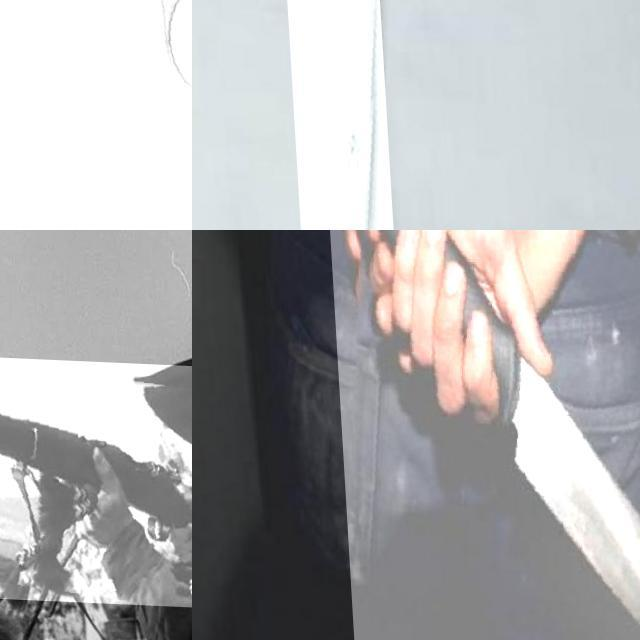-: (323, 230, 640, 640), (282, 0, 403, 230)
gun-knife-thesis - v11 Yolov5 augmented: (0, 350, 192, 606), (0, 0, 192, 230)
